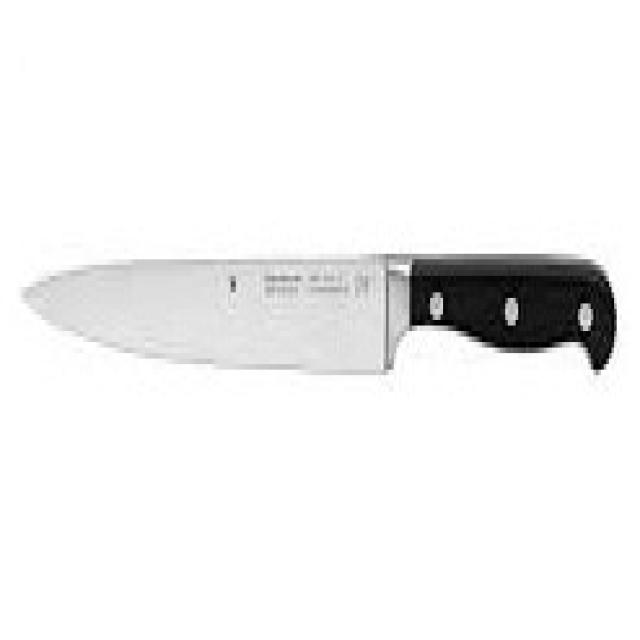knife: (20, 251, 620, 380)
